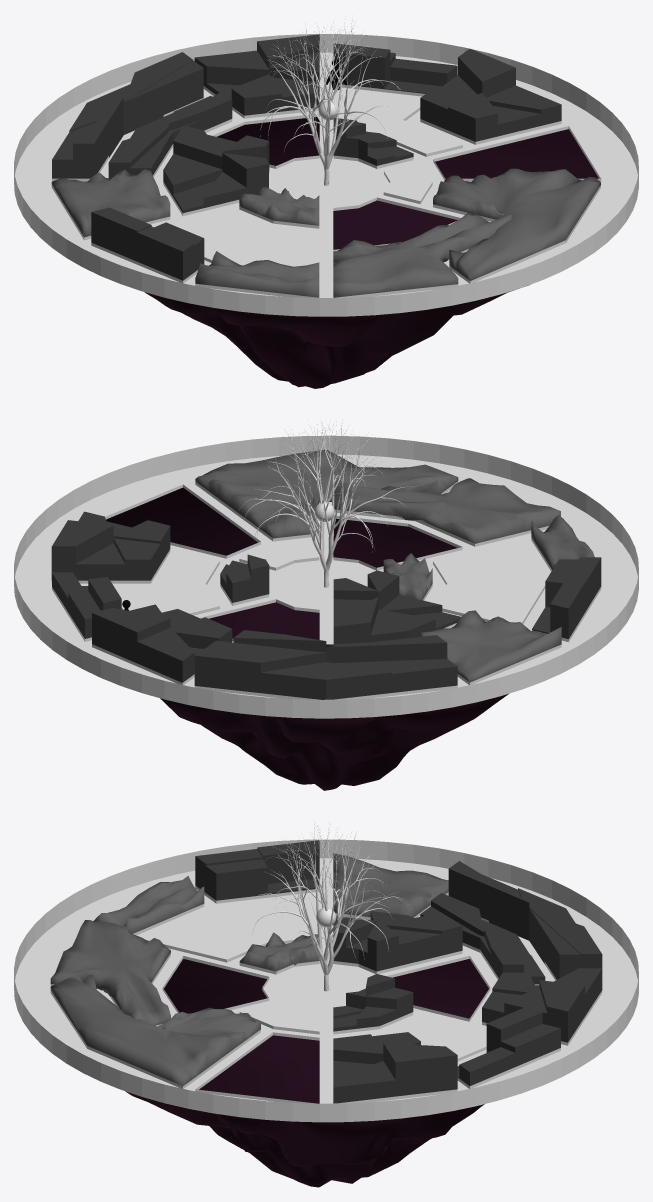
3 renders of one model, top to bottom at view 1: azimuth 30°, elevation 25°; view 2: azimuth 150°, elevation 25°; view 3: azimuth 270°, elevation 25°, orthographic.
Visible parts, largest first — view 1: SurfCircle, SurfCircle.003, SurfCircle.007, SurfCircle.002, SurfCircle.005, tree, SurfCircle.001; view 2: SurfCircle, SurfCircle.003, SurfCircle.007, SurfCircle.002, SurfCircle.005, tree, SurfCircle.001; view 3: SurfCircle, SurfCircle.003, SurfCircle.007, SurfCircle.002, SurfCircle.005, tree, SurfCircle.001.
Part boxes in pixels (bbox=[...]): SurfCircle: bbox=[14, 34, 638, 316]; SurfCircle.003: bbox=[52, 34, 561, 280]; SurfCircle.007: bbox=[51, 168, 600, 297]; SurfCircle.002: bbox=[144, 117, 598, 388]; SurfCircle.005: bbox=[169, 89, 462, 266]; tree: bbox=[259, 16, 401, 185]; SurfCircle.001: bbox=[270, 161, 382, 208]; SurfCircle: bbox=[14, 435, 638, 718]; SurfCircle.003: bbox=[51, 511, 601, 699]; SurfCircle.007: bbox=[195, 449, 594, 682]; SurfCircle.002: bbox=[106, 487, 508, 790]; SurfCircle.005: bbox=[114, 539, 545, 622]; tree: bbox=[239, 420, 413, 587]; SurfCircle.001: bbox=[270, 563, 370, 610]; SurfCircle: bbox=[14, 839, 638, 1122]; SurfCircle.003: bbox=[195, 840, 602, 1103]; SurfCircle.007: bbox=[50, 853, 448, 1085]; SurfCircle.002: bbox=[125, 959, 488, 1187]; SurfCircle.005: bbox=[143, 895, 486, 1058]; tree: bbox=[252, 820, 407, 991]; SurfCircle.001: bbox=[269, 967, 370, 1014].
Bounding box in the file's own units: 2194 × 1390 × 2194.
